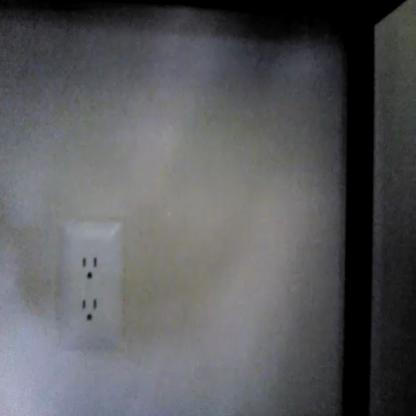OUTLET: (58, 220, 122, 350)
